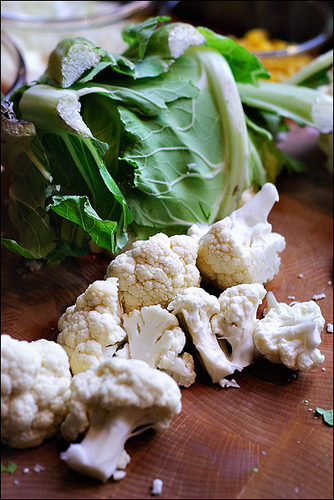cauliflower: (3, 178, 325, 478)
